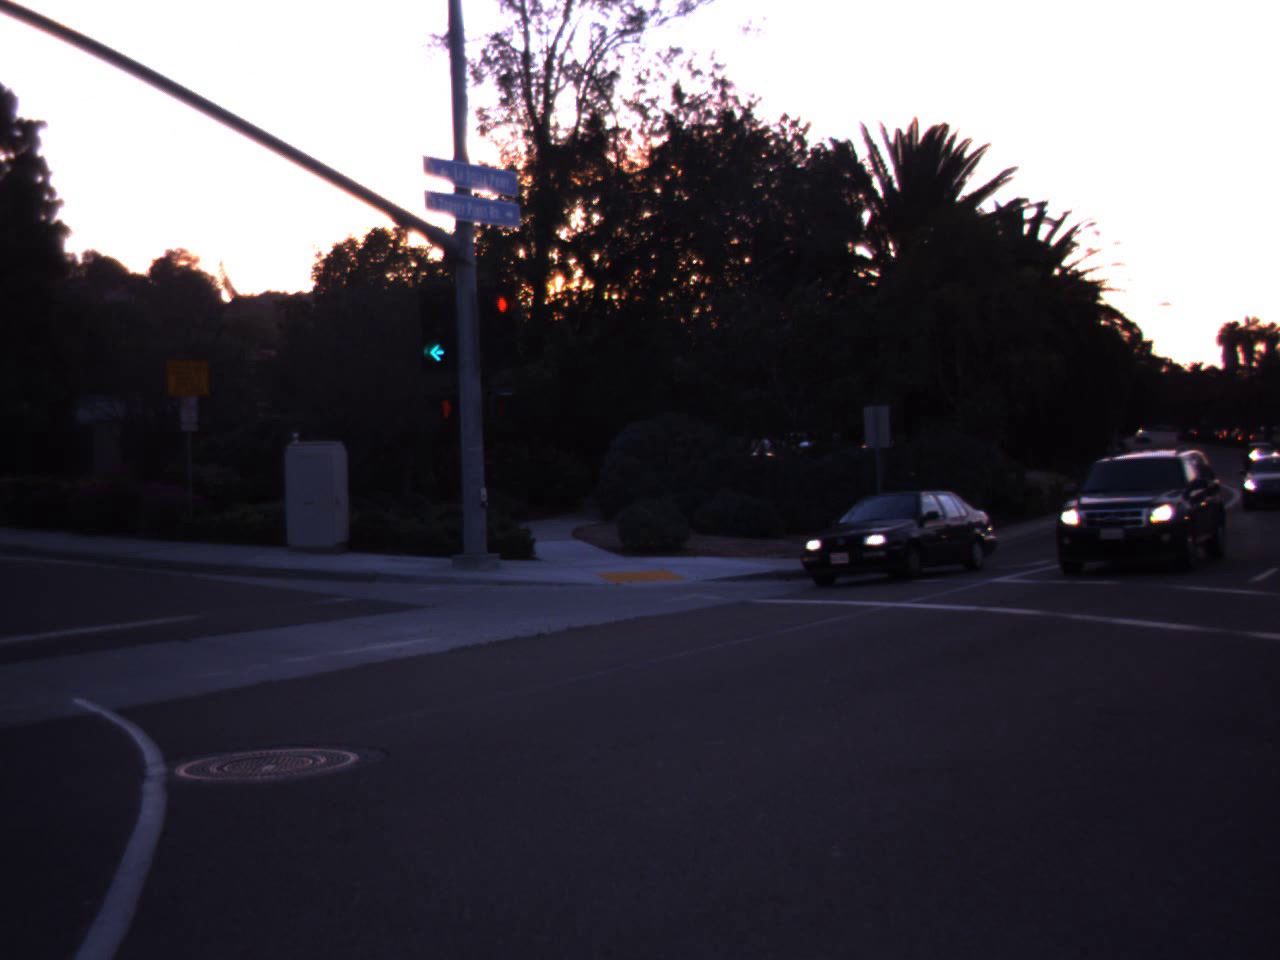go: (409, 280, 463, 370)
